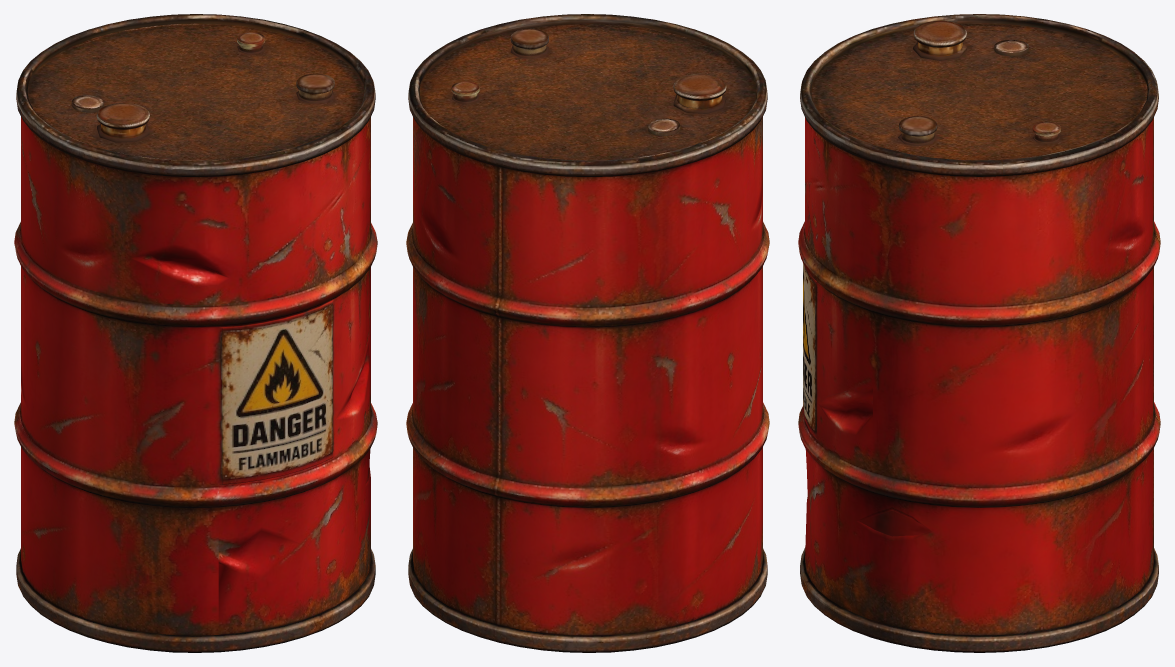
File: flammable+barrel+3d+model.glb
3 renders of one model, left to right at view 1: azimuth 30°, elevation 25°; view 2: azimuth 150°, elevation 25°; view 3: azimuth 270°, elevation 25°, orthographic.
Parts seen in each view (by area): view 1: tripo_node_ae3fe88b-5ede-47f9-afe7-f7dec125ccbc; view 2: tripo_node_ae3fe88b-5ede-47f9-afe7-f7dec125ccbc; view 3: tripo_node_ae3fe88b-5ede-47f9-afe7-f7dec125ccbc.
Boxes of the visible parts, x1=… form: tripo_node_ae3fe88b-5ede-47f9-afe7-f7dec125ccbc: x1=14, y1=14, x2=377, y2=652; tripo_node_ae3fe88b-5ede-47f9-afe7-f7dec125ccbc: x1=406, y1=14, x2=769, y2=652; tripo_node_ae3fe88b-5ede-47f9-afe7-f7dec125ccbc: x1=798, y1=14, x2=1160, y2=652.
Bounding box in the file's own units: 0.6519 × 0.9995 × 0.6519.
Materials: 1 (1 with a texture image).
